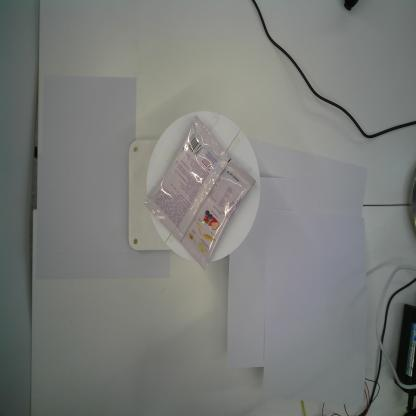Instant Drink: (144, 115, 256, 270)
